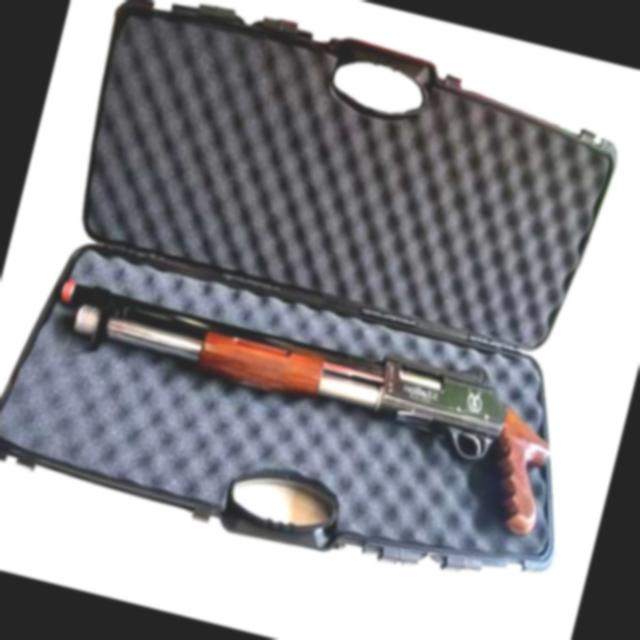shotgun: (20, 252, 568, 544)
